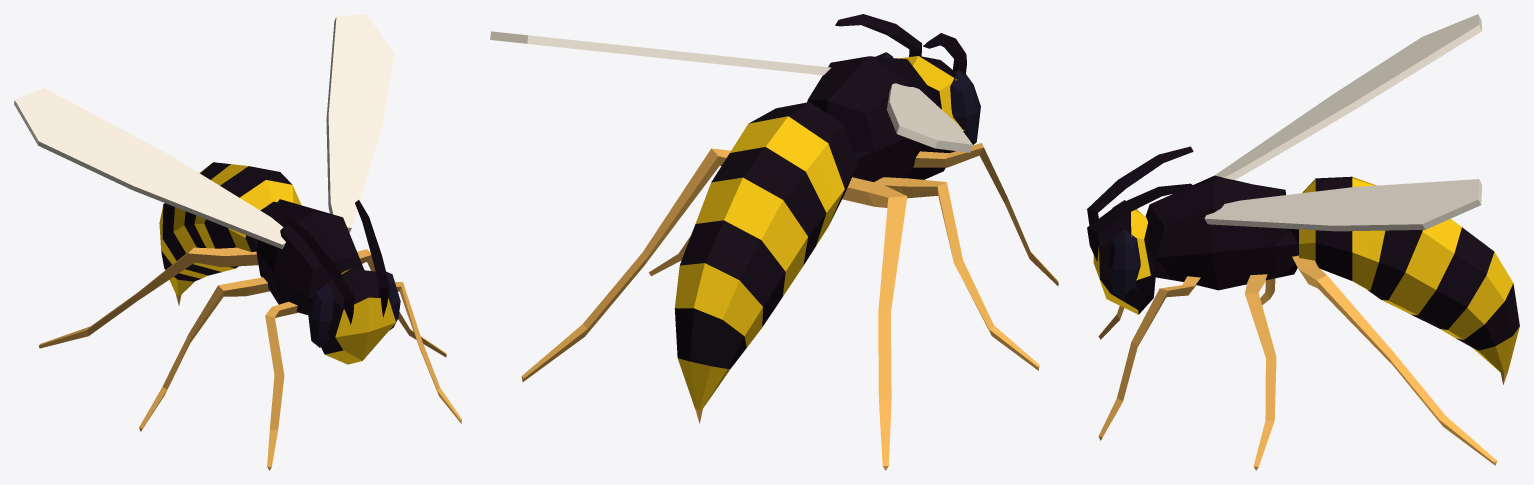
File: wasp.glb
3 views of the same model, side by side, from view 1: azimuth 30°, elevation 25°; view 2: azimuth 150°, elevation 25°; view 3: azimuth 270°, elevation 25° (orthographic). The views are drawn at different scales.
Visible parts, largest first — view 1: Geo_Wasp; view 2: Geo_Wasp; view 3: Geo_Wasp.
Part boxes in pixels (x1,y1,x2,y2): Geo_Wasp: [14, 14, 461, 470]; Geo_Wasp: [490, 14, 1058, 470]; Geo_Wasp: [1087, 14, 1519, 470].
Size of the model in its own units: 67.99 by 48.8 by 66.36.
2 materials, 1 textured.
